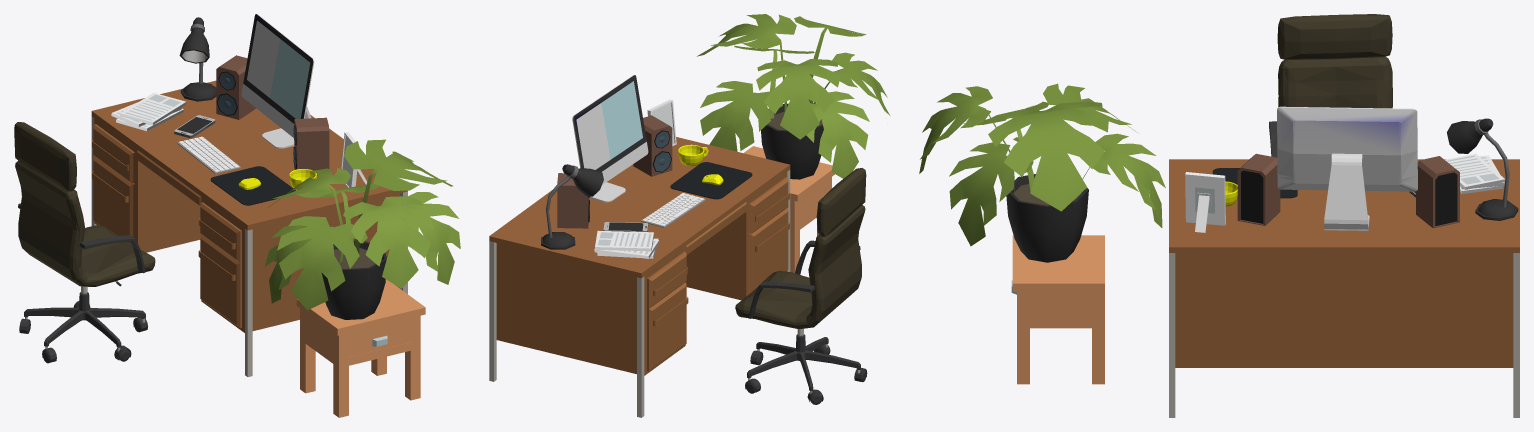
The model's file is desk.glb.
3 views of the same model, side by side, from view 1: azimuth 30°, elevation 25°; view 2: azimuth 150°, elevation 25°; view 3: azimuth 270°, elevation 25° (orthographic). The views are drawn at different scales.
Parts seen in each view (by area): view 1: Node.003, Houseplant-bfLOqIV5uP, Chair.003, Cabinet Bed Drawer Tabl, screen, Monitor.001|iMac|Dupli|, Desk_Speakers_01_Cube, Mousepad, Desk_Speakers_01_Cube.001, Paper, Light Desk.001, Phone (+1 smaller); view 2: Node.003, Houseplant-bfLOqIV5uP, Chair.003, screen, Cabinet Bed Drawer Tabl, Monitor.001|iMac|Dupli|, Mousepad, Light Desk.001, Desk_Speakers_01_Cube, Paper, Desk_Speakers_01_Cube.001, Blank Picture Frame|Node.007|Dupli| (+2 smaller); view 3: Node.003, Houseplant-bfLOqIV5uP, Monitor.001|iMac|Dupli|, Chair.003, Cabinet Bed Drawer Tabl, Desk_Speakers_01_Cube.001, Desk_Speakers_01_Cube, Light Desk.001, Blank Picture Frame|Node.007|Dupli|, Paper.
Boxes of the visible parts, left/top/right/bottom form: Node.003: left=91, top=80, right=407, bottom=376; Houseplant-bfLOqIV5uP: left=265, top=139, right=460, bottom=319; Chair.003: left=14, top=122, right=155, bottom=363; Cabinet Bed Drawer Tabl: left=296, top=279, right=425, bottom=417; screen: left=247, top=20, right=310, bottom=118; Monitor.001|iMac|Dupli|: left=241, top=14, right=314, bottom=148; Desk_Speakers_01_Cube: left=293, top=117, right=329, bottom=175; Mousepad: left=210, top=166, right=295, bottom=205; Desk_Speakers_01_Cube.001: left=216, top=55, right=256, bottom=119; Paper: left=111, top=93, right=186, bottom=131; Light Desk.001: left=179, top=17, right=216, bottom=101; Phone: left=174, top=115, right=215, bottom=138; Node.003: left=489, top=137, right=790, bottom=417; Houseplant-bfLOqIV5uP: left=697, top=14, right=890, bottom=179; Chair.003: left=735, top=168, right=867, bottom=404; screen: left=576, top=81, right=642, bottom=169; Cabinet Bed Drawer Tabl: left=743, top=146, right=834, bottom=272; Monitor.001|iMac|Dupli|: left=572, top=75, right=648, bottom=202; Mousepad: left=670, top=162, right=752, bottom=199; Light Desk.001: left=541, top=164, right=603, bottom=249; Desk_Speakers_01_Cube: left=633, top=115, right=672, bottom=176; Paper: left=594, top=230, right=659, bottom=258; Desk_Speakers_01_Cube.001: left=557, top=173, right=589, bottom=228; Blank Picture Frame|Node.007|Dupli|: left=647, top=99, right=676, bottom=146; Node.003: left=1169, top=159, right=1519, bottom=417; Houseplant-bfLOqIV5uP: left=919, top=83, right=1165, bottom=262; Monitor.001|iMac|Dupli|: left=1277, top=106, right=1417, bottom=230; Chair.003: left=1269, top=14, right=1392, bottom=157; Cabinet Bed Drawer Tabl: left=1011, top=235, right=1104, bottom=384; Desk_Speakers_01_Cube.001: left=1416, top=156, right=1459, bottom=228; Desk_Speakers_01_Cube: left=1237, top=153, right=1280, bottom=225; Light Desk.001: left=1447, top=118, right=1518, bottom=220; Blank Picture Frame|Node.007|Dupli|: left=1185, top=172, right=1225, bottom=232; Paper: left=1445, top=153, right=1505, bottom=193.
Size of the model in its own units: 1.93 by 1.56 by 2.97.
Materials: 39 (4 with a texture image).
